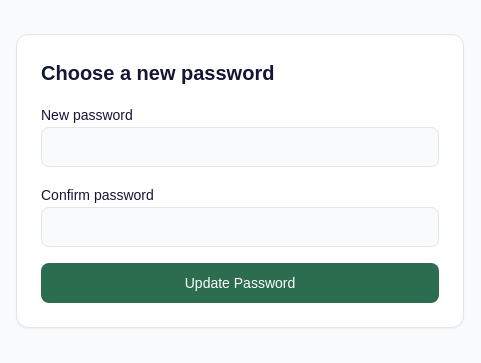
Test case: ResetPasswordPage › rejects a weak password without calling the server
Type "short1" into the password field labelled "New password" at (240, 147), box [41, 127, 439, 167]
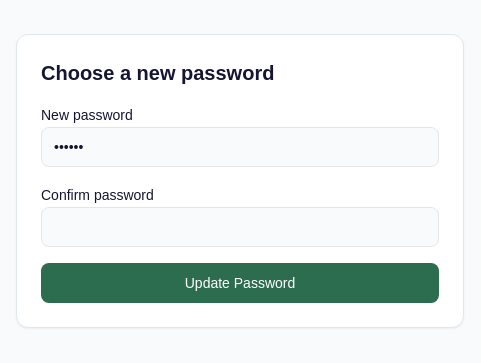
Type "short1" into the password field labelled "Confirm password" at (240, 227), box [41, 207, 439, 247]
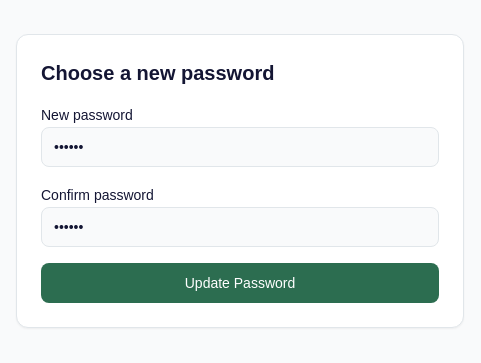
Click the button "Update Password" at (240, 283), box [41, 263, 439, 303]
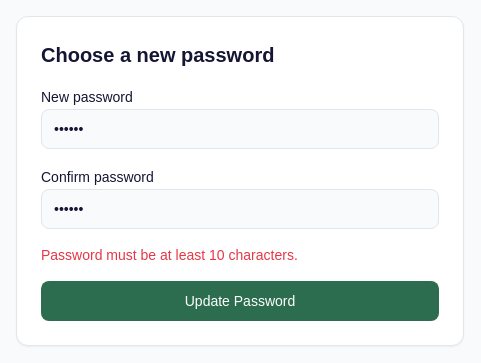
Check: the text "Password must be at least 10 characters." is shown, box [41, 247, 298, 263]
